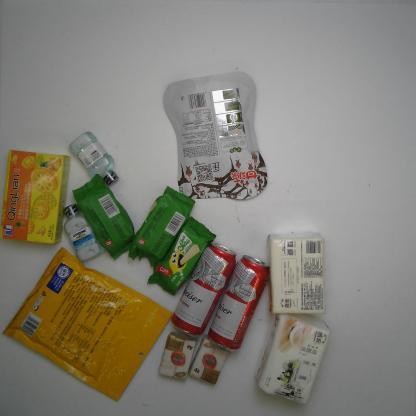Alcohol: (169, 236, 240, 343), (205, 250, 269, 354)
Dessert: (0, 145, 72, 249), (66, 172, 138, 262), (146, 212, 217, 296), (129, 180, 198, 266)
Dried Fruit: (2, 241, 177, 405), (159, 68, 276, 209)
Personal Hygiene: (63, 130, 128, 190), (60, 202, 102, 263)
Tissue: (254, 305, 333, 408), (263, 232, 331, 317), (156, 328, 199, 383), (189, 334, 233, 384)
